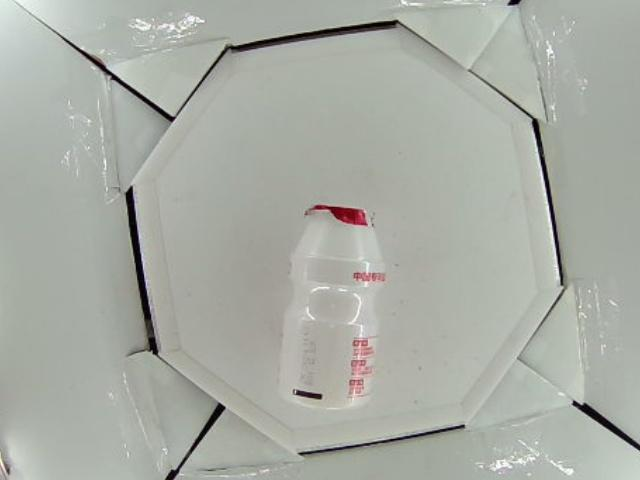Bottle: (275, 205, 389, 409)
